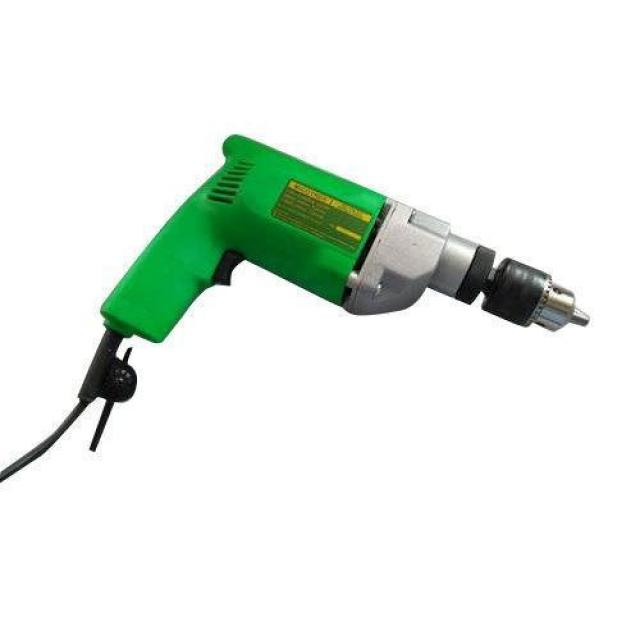Drill: (79, 134, 592, 404)
